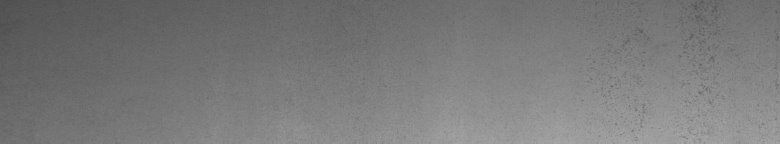ib: (621, 6, 717, 112)
